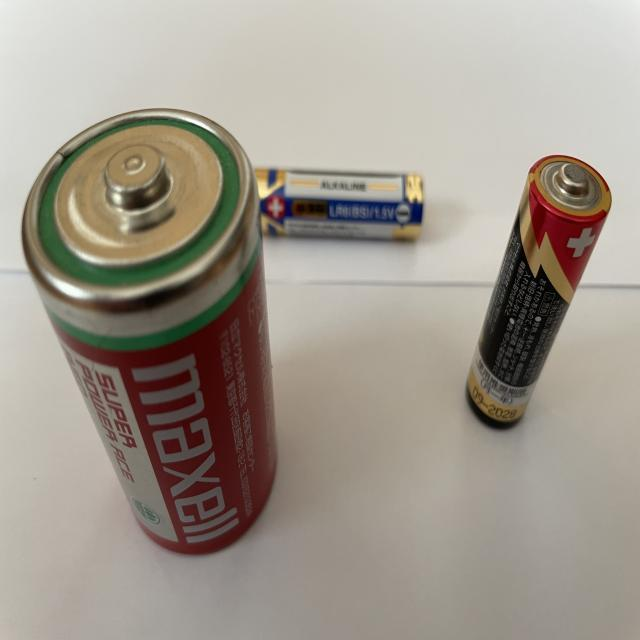hazardous waste: (22, 105, 282, 562), (462, 148, 614, 434), (244, 166, 426, 242)
